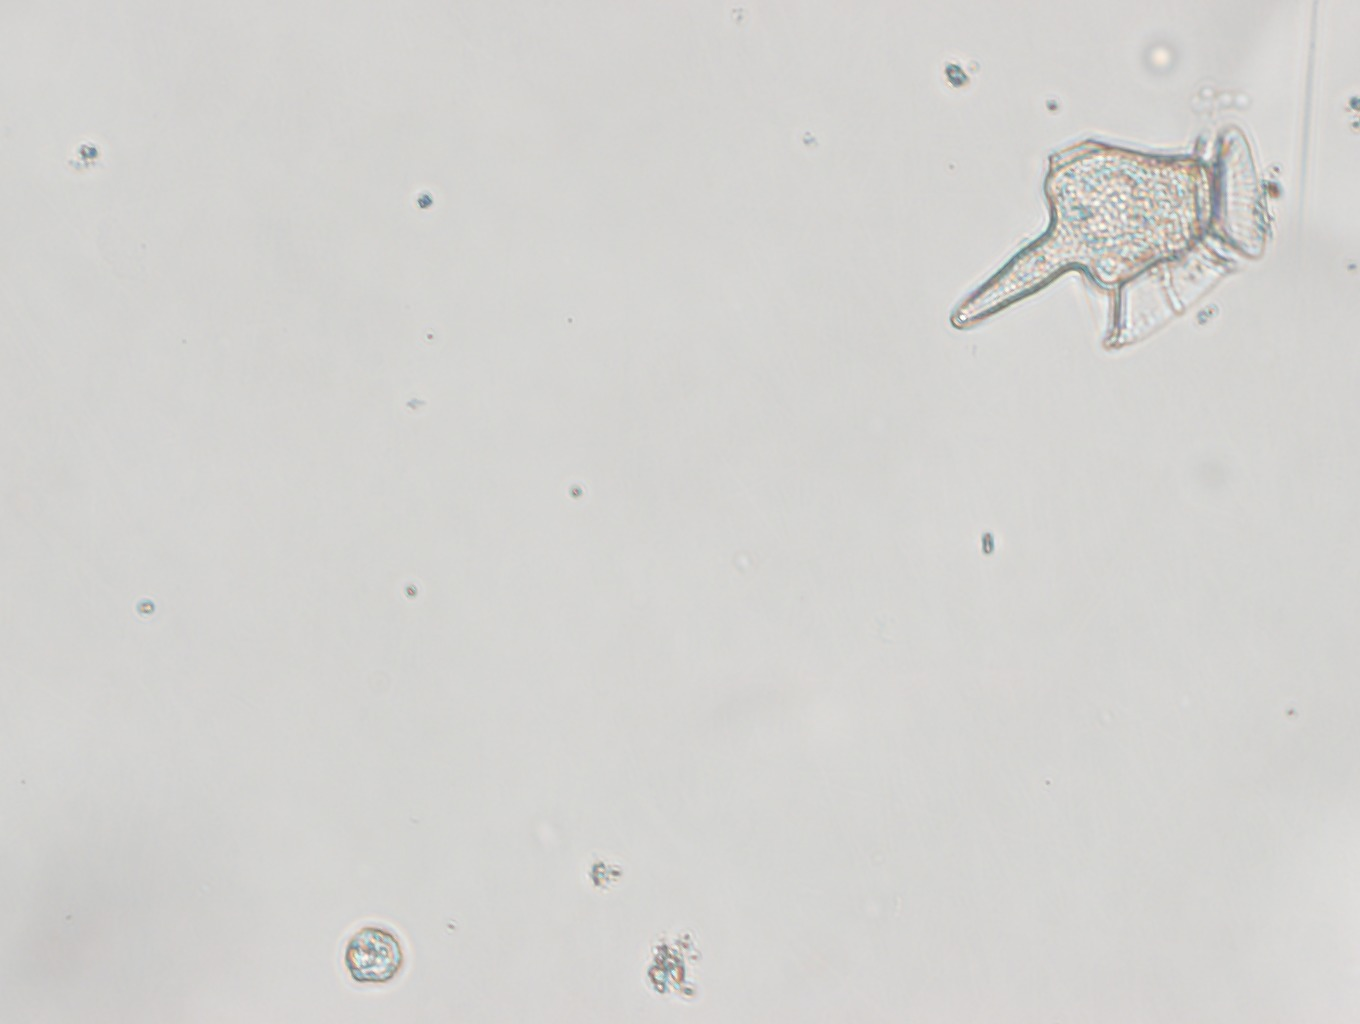dinophysis caudata: (943, 122, 1271, 352)
